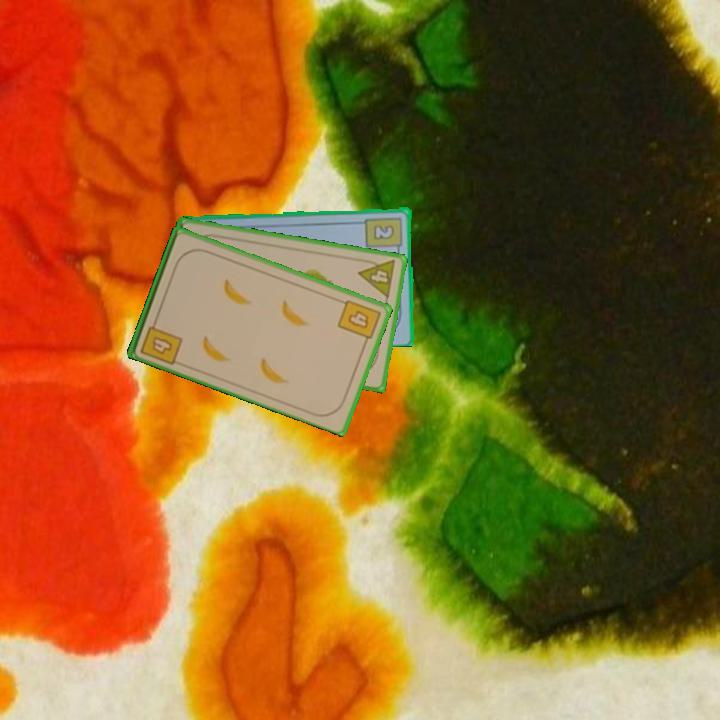2b: (363, 213, 406, 255)
4b: (334, 296, 383, 348), (137, 314, 185, 367)
4p: (355, 255, 399, 301)
